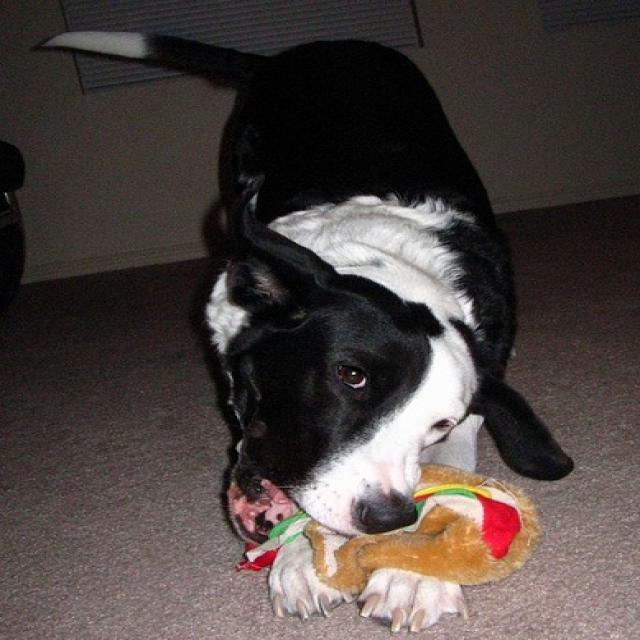dog: (35, 27, 572, 628)
